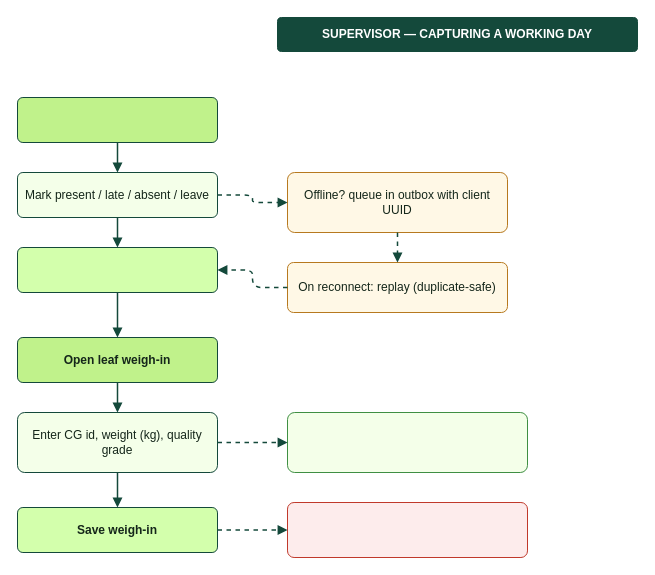
Some shapes in this 655 by 575 pixel diagram are drawn without their labels. Each missing label, with the box of its shape:
Open attendance register: (16, 96, 218, 142)
Optional photograph → grade SUGGESTED, never pre-filled: (286, 412, 528, 472)
Refused unless worker is present or late today: (286, 502, 528, 558)
Save register: (16, 246, 218, 292)
